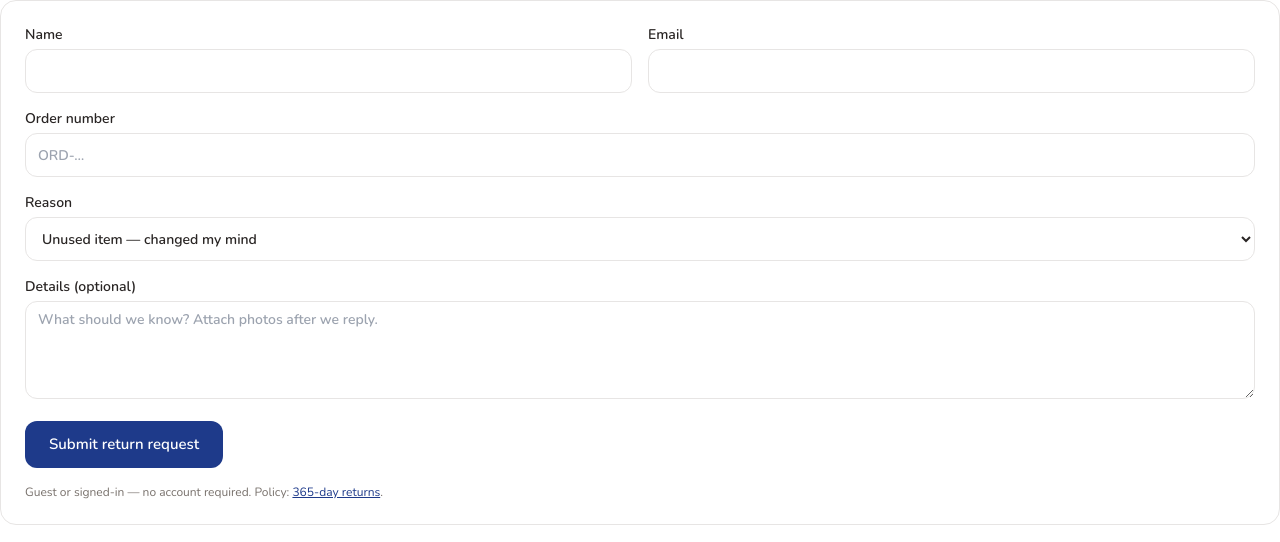
ReturnRequestForm › submits order number, email, and reason and shows a reference
Type "Jawed" into the field labelled "Name" at (328, 71), box [25,49,632,93]
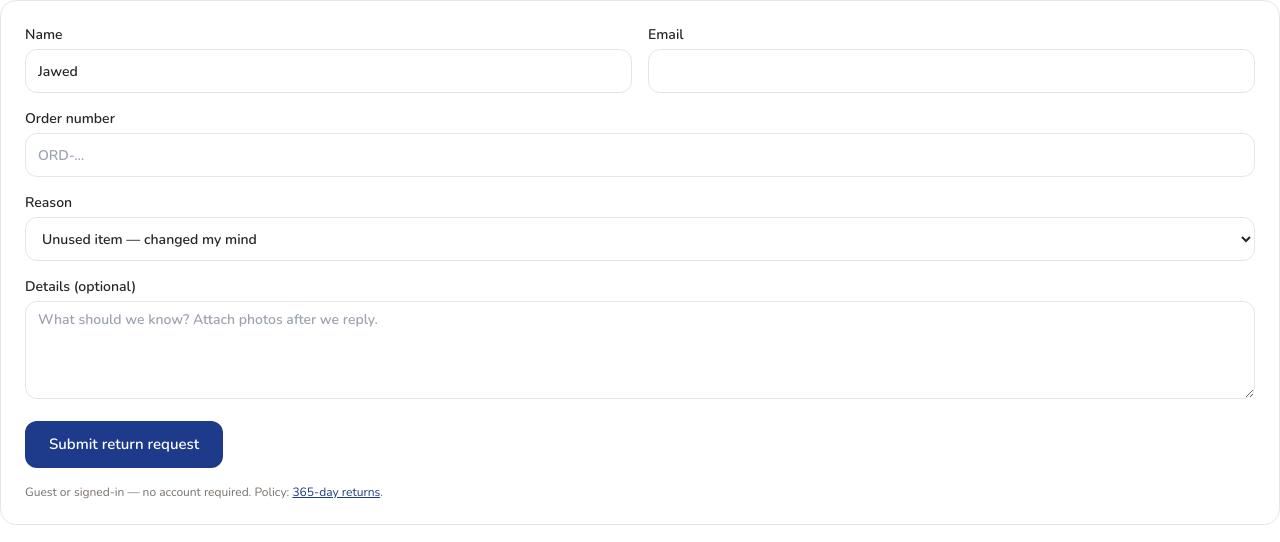
Type "jawed@example.com" into the field labelled "Email" at (952, 71), box [648,49,1255,93]
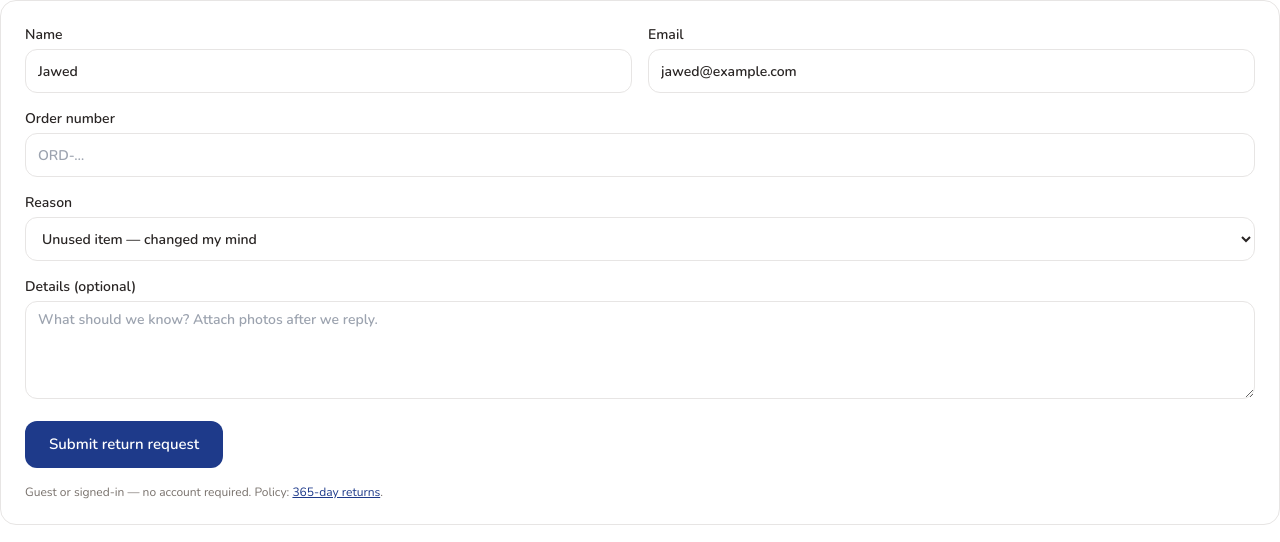
Type "ORD-1787843707561-4371" into the field labelled "Order number" at (640, 155), box [25,133,1255,177]
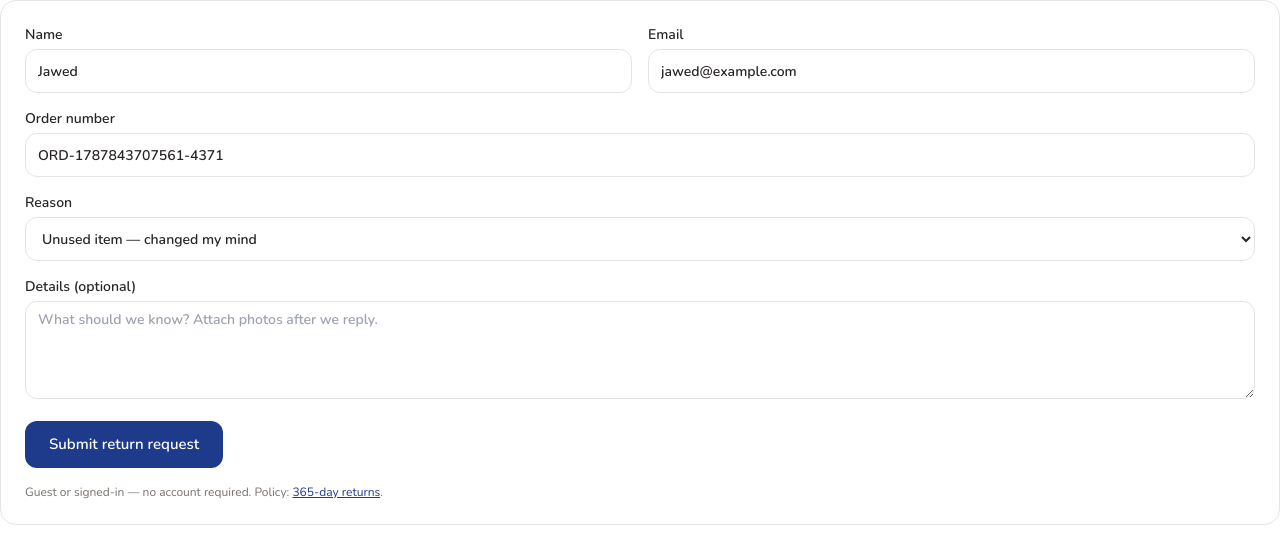
Click the button "Submit return request" at (124, 445), box [25,421,223,468]
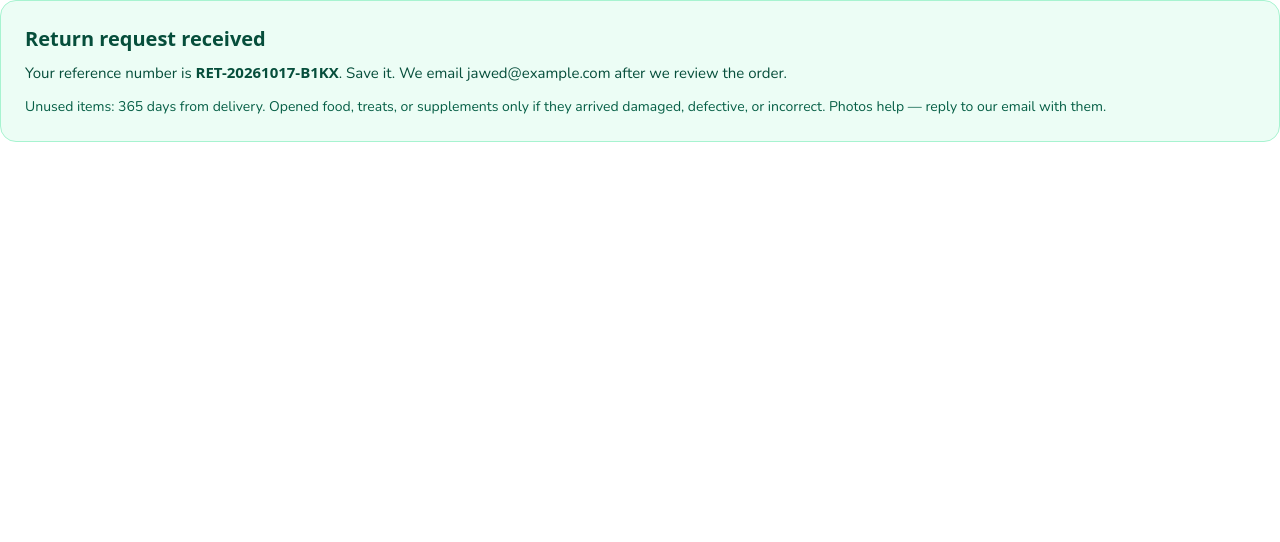
Check: the heading "Return request received" is shown, box [25,25,266,52]
Check: the text "RET-" is shown, box [196,62,339,82]
